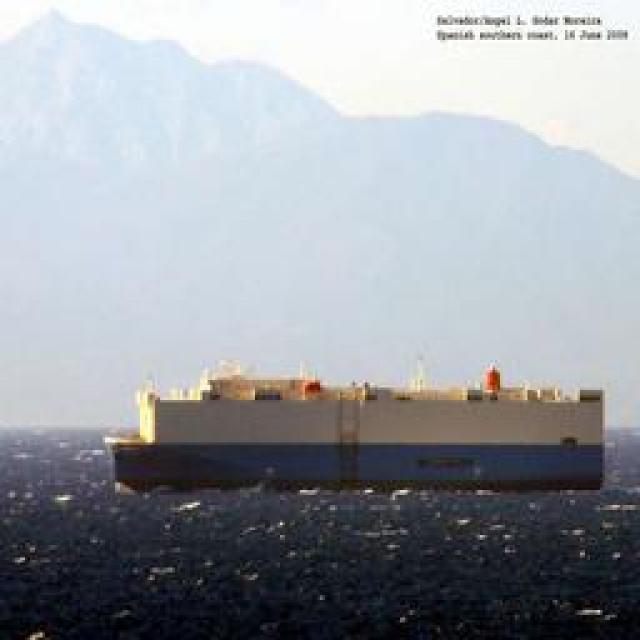ship2: (110, 355, 606, 493)
